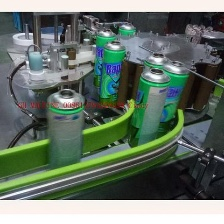aerosol_cans: (123, 65, 171, 150), (43, 86, 86, 176), (150, 57, 192, 146), (137, 50, 171, 140), (95, 36, 128, 111), (91, 26, 119, 103), (116, 19, 137, 79)
